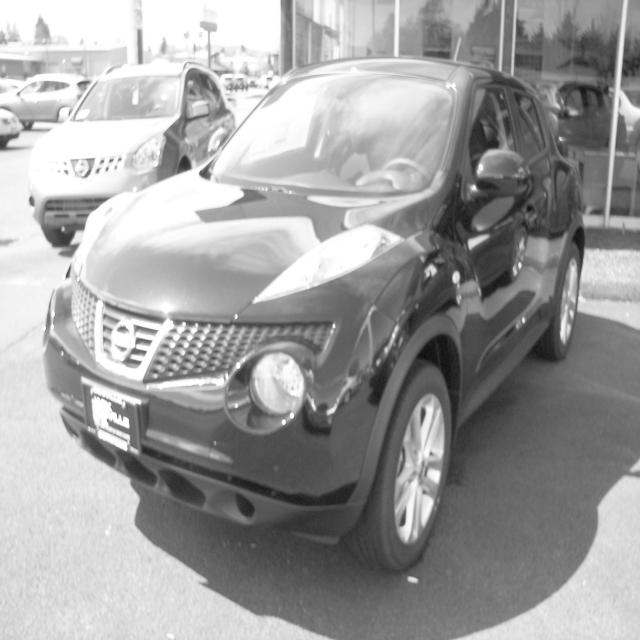car: (42, 55, 586, 572), (28, 59, 236, 246), (0, 73, 93, 130)
